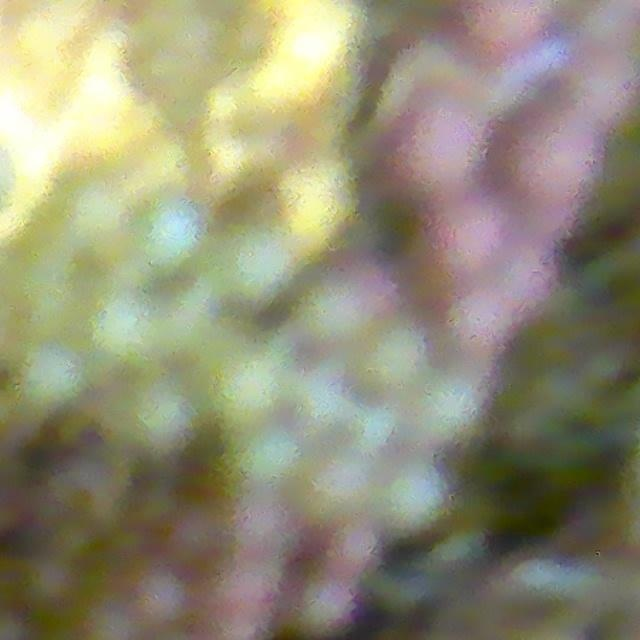SeaGrape: (377, 74, 487, 210), (504, 84, 607, 217), (412, 187, 502, 297), (104, 372, 197, 458), (448, 0, 545, 69), (415, 363, 485, 456), (202, 345, 281, 418), (232, 223, 299, 307), (130, 198, 201, 272), (233, 422, 307, 490), (361, 323, 431, 393), (381, 470, 446, 544), (14, 345, 88, 410), (92, 294, 160, 361), (60, 175, 125, 245), (312, 452, 375, 517), (300, 293, 353, 363), (352, 403, 399, 452)
